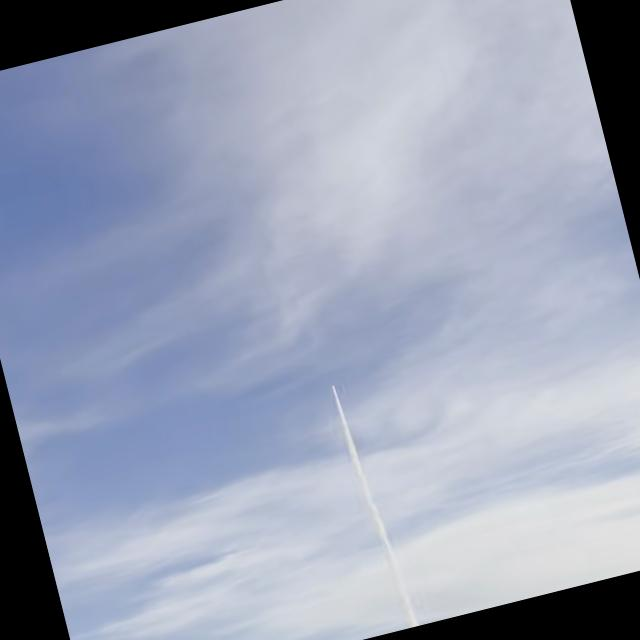smoke_trail_with_rocket: (331, 385, 420, 628)
